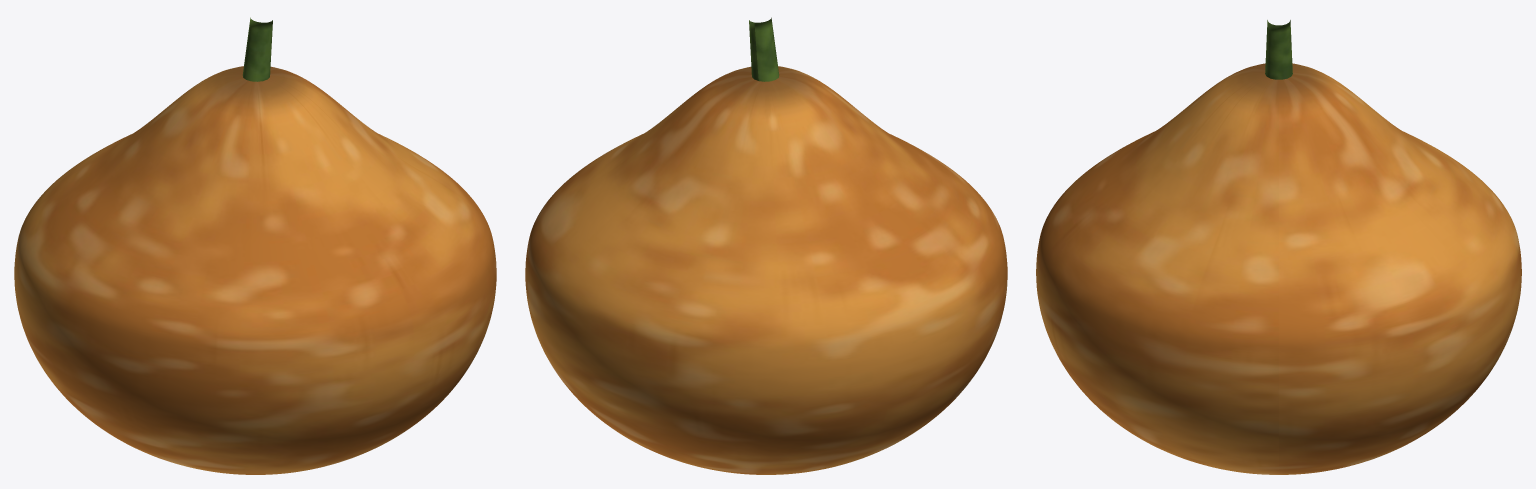
The model's file is oignon.glb.
3 renders of one model, left to right at view 1: azimuth 30°, elevation 25°; view 2: azimuth 150°, elevation 25°; view 3: azimuth 270°, elevation 25°, orthographic.
Visible parts, largest first — view 1: entier_peau, moitie_A_peau, moitie_B_peau, entier_extra0; view 2: entier_peau, moitie_B_peau, moitie_A_peau, entier_extra0; view 3: entier_peau, moitie_A_peau, moitie_B_peau, entier_extra0.
Boxes of the visible parts, <box> form: entier_peau: <box>15,66,496,474</box>; moitie_A_peau: <box>50,73,496,474</box>; moitie_B_peau: <box>14,66,426,409</box>; entier_extra0: <box>242,17,272,81</box>; entier_peau: <box>525,66,1006,474</box>; moitie_B_peau: <box>525,73,971,474</box>; moitie_A_peau: <box>594,66,1007,407</box>; entier_extra0: <box>749,17,779,81</box>; entier_peau: <box>1036,64,1521,474</box>; moitie_A_peau: <box>1036,63,1277,474</box>; moitie_B_peau: <box>1280,63,1521,474</box>; entier_extra0: <box>1265,20,1292,79</box>.
Size of the model in its own units: 0.0464 by 0.0455 by 0.0464.
Materials: 3 (3 with a texture image).
